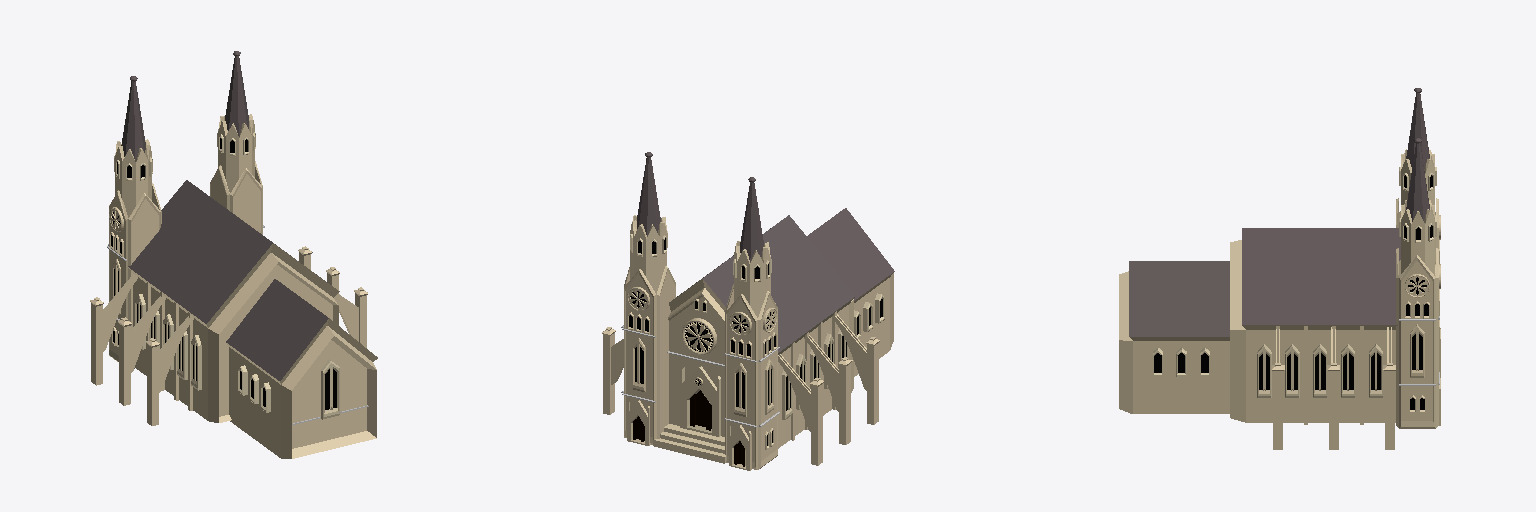
The model's file is cathedral_spain.obj.
3 views of the same model, side by side, from view 1: azimuth 30°, elevation 25°; view 2: azimuth 150°, elevation 25°; view 3: azimuth 270°, elevation 25° (orthographic).
Parts seen in each view (by area): view 1: Body_Cube.049, Body.001_Cube.095, Cylinder.006_Cylinder.008, Cylinder.007_Cylinder.009, TowerFace.000_Cube.029, TowerFace.003_Cube.029, TowerFace.005_Cube.010, Cube.056_Cube.080, Cube.059_Cube.083, Cube.054_Cube.075, Cube.071_Cube.096, Cube.055_Cube.076 (+5 smaller); view 2: Body_Cube.049, Body.001_Cube.095, Tower_Cube.004, Tower.001_Cube.004, Cylinder.006_Cylinder.008, Cylinder.007_Cylinder.009, Cube.033_Cube.052, TowerFace.002_Cube.020, TowerFace.005_Cube.010, Cube.059_Cube.083, Cube.054_Cube.075, Cube.056_Cube.080 (+10 smaller); view 3: Body_Cube.049, Body.001_Cube.095, TowerFace.001_Cube.010, Cylinder.006_Cylinder.008, Cylinder.007_Cylinder.009, Cube.068_Cube.092, Cube.065_Cube.089, Cube.062_Cube.086, Cube.049_Cube.070, Cube.048_Cube.069, Cube.009_Cube.013, Cube.052_Cube.073 (+4 smaller).
Boxes of the visible parts, box(x1,y1,x2,y2) form: Body_Cube.049: box(128, 180, 339, 422); Body.001_Cube.095: box(226, 279, 377, 458); Cylinder.006_Cylinder.008: box(218, 51, 254, 192); Cylinder.007_Cylinder.009: box(115, 76, 151, 217); TowerFace.000_Cube.029: box(128, 193, 160, 368); TowerFace.003_Cube.029: box(230, 168, 261, 233); TowerFace.005_Cube.010: box(109, 190, 128, 361); Cube.056_Cube.080: box(118, 317, 131, 405); Cube.059_Cube.083: box(145, 338, 159, 425); Cube.054_Cube.075: box(90, 297, 103, 385); Cube.071_Cube.096: box(321, 359, 339, 419); Cube.055_Cube.076: box(103, 275, 137, 351); Body_Cube.049: box(668, 215, 855, 448); Body.001_Cube.095: box(807, 208, 894, 376); Tower_Cube.004: box(624, 269, 656, 444); Tower.001_Cube.004: box(726, 294, 757, 469); Cylinder.006_Cylinder.008: box(630, 152, 666, 294); Cylinder.007_Cylinder.009: box(734, 177, 770, 317); Cube.033_Cube.052: box(680, 366, 720, 436); TowerFace.002_Cube.020: box(657, 266, 675, 438); TowerFace.005_Cube.010: box(758, 291, 777, 469); Cube.059_Cube.083: box(866, 337, 879, 424); Cube.054_Cube.075: box(810, 378, 823, 465); Cube.056_Cube.080: box(838, 357, 852, 444); Body_Cube.049: box(1230, 228, 1400, 422); Body.001_Cube.095: box(1119, 261, 1229, 413); TowerFace.001_Cube.010: box(1399, 255, 1435, 428); Cylinder.006_Cylinder.008: box(1401, 138, 1434, 275); Cylinder.007_Cylinder.009: box(1401, 88, 1434, 204); Cube.068_Cube.092: box(1383, 363, 1395, 449); Cube.065_Cube.089: box(1327, 363, 1339, 449); Cube.062_Cube.086: box(1272, 363, 1284, 449); Cube.049_Cube.070: box(1285, 344, 1299, 397); Cube.048_Cube.069: box(1257, 344, 1271, 397); Cube.009_Cube.013: box(1410, 324, 1424, 377); Cube.052_Cube.073: box(1369, 344, 1382, 397).
Bounding box in the file's own units: 13.44 × 16.79 × 17.34.